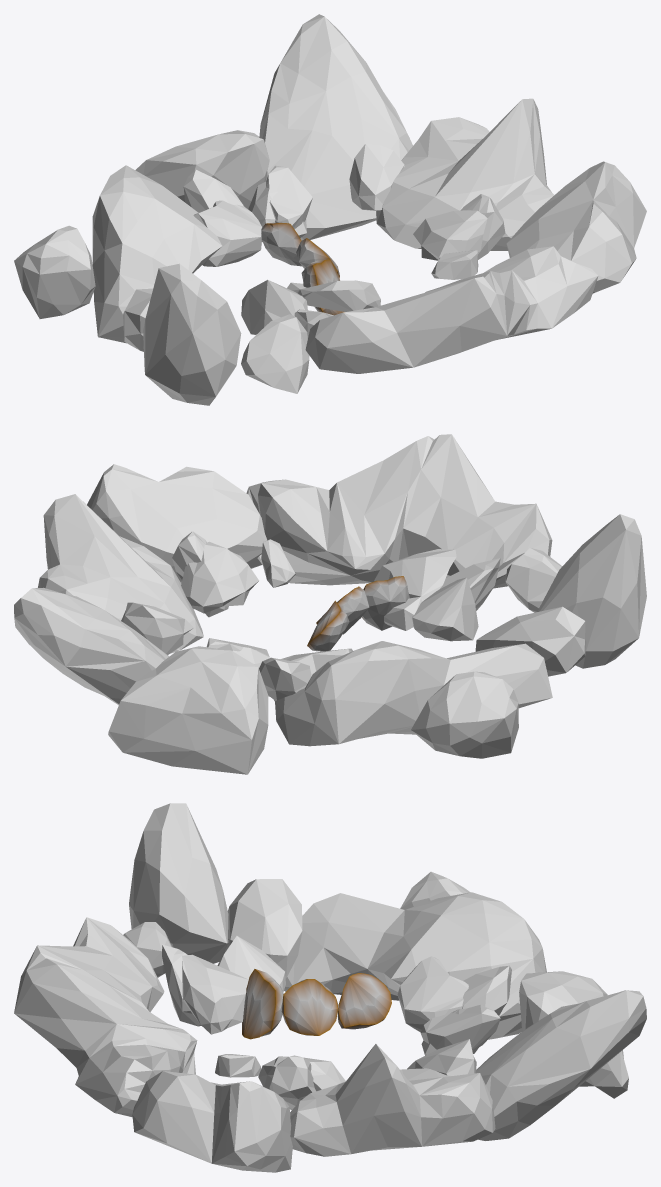
3 renders of one model, top to bottom at view 1: azimuth 30°, elevation 25°; view 2: azimuth 150°, elevation 25°; view 3: azimuth 270°, elevation 25°, orthographic. The views are drawn at different scales.
Visible parts, largest first — view 1: Group[2], Group[1], Group[0]; view 2: Group[2], Group[1], Group[0]; view 3: Group[2], Group[1], Group[0].
Boxes of the visible parts, bbox=[...] form: Group[2]: bbox=[14, 14, 646, 405]; Group[1]: bbox=[193, 143, 487, 334]; Group[0]: bbox=[261, 222, 344, 315]; Group[2]: bbox=[14, 434, 646, 774]; Group[1]: bbox=[121, 539, 478, 701]; Group[0]: bbox=[307, 576, 409, 651]; Group[2]: bbox=[14, 803, 646, 1172]; Group[1]: bbox=[182, 936, 500, 1091]; Group[0]: bbox=[242, 969, 391, 1039].
Bounding box in the file's own units: 11.73 × 3.31 × 11.76.
